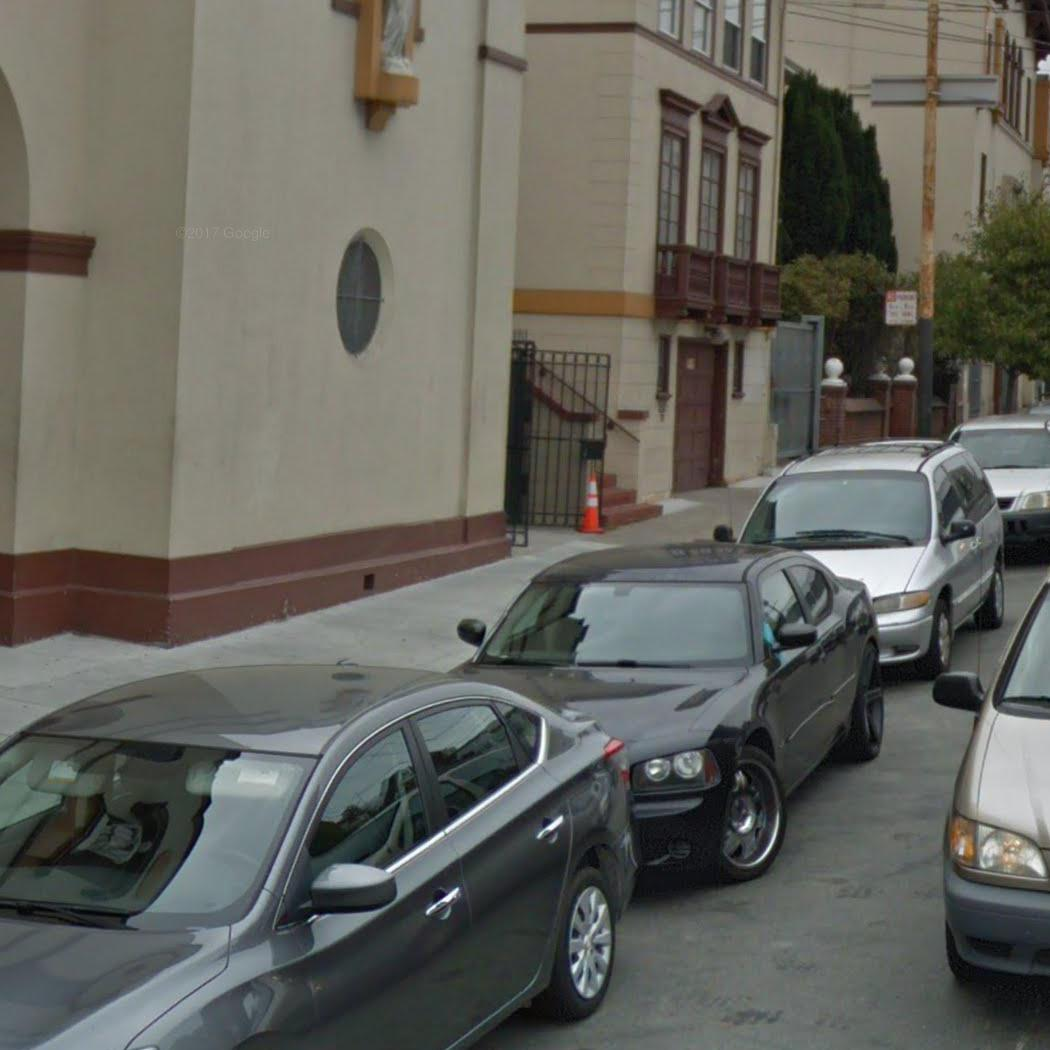No Parking: (883, 288, 921, 328)
